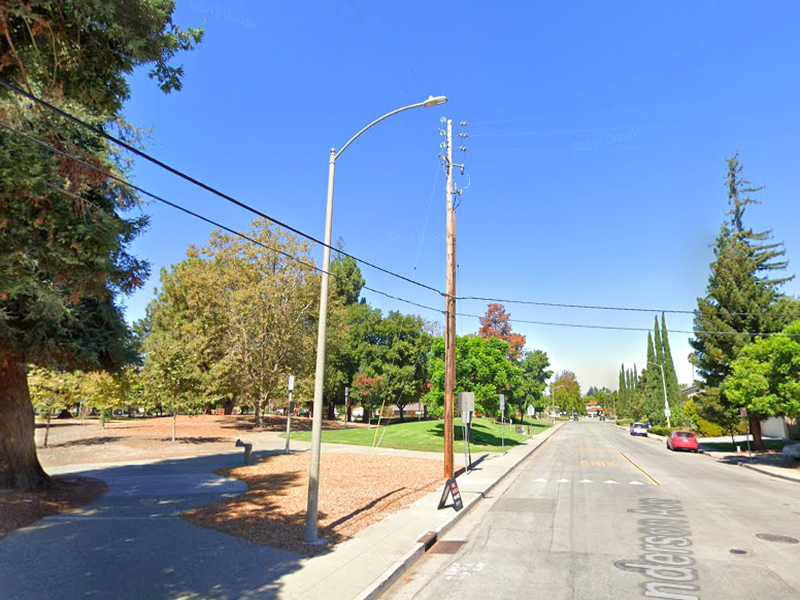utility_pole: (430, 109, 476, 202)
